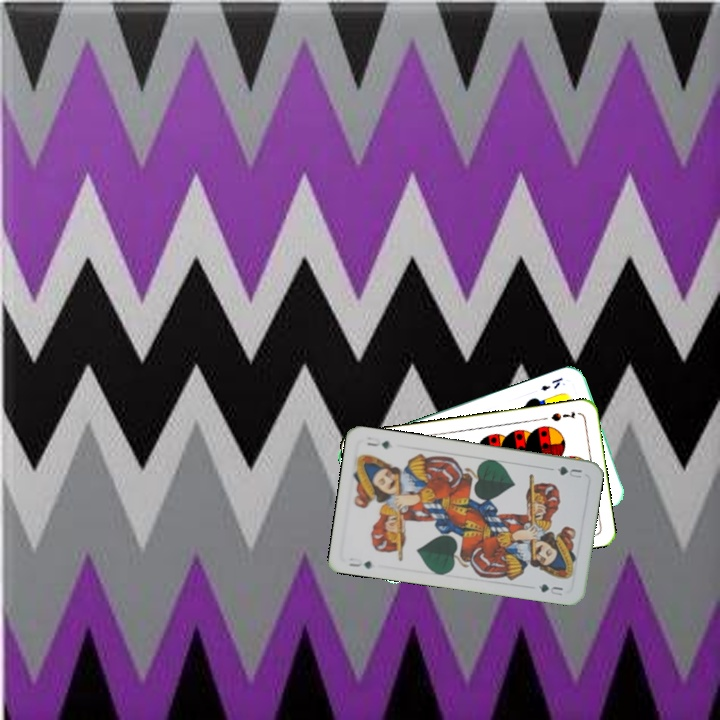EK: (537, 373, 565, 394)
GU: (553, 462, 584, 481), (344, 553, 374, 572)
S7: (547, 408, 578, 424)
